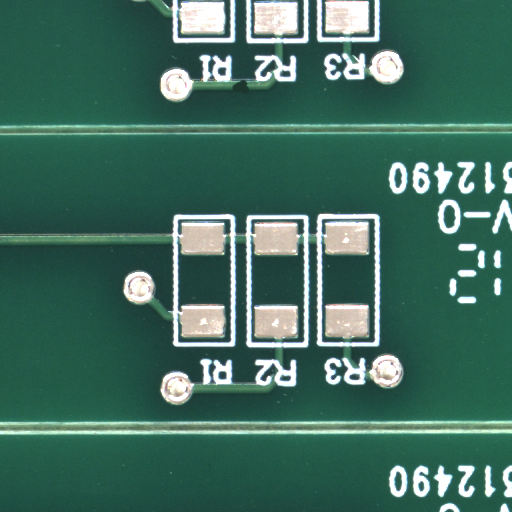Mouse_bite: (241, 86, 258, 99)
